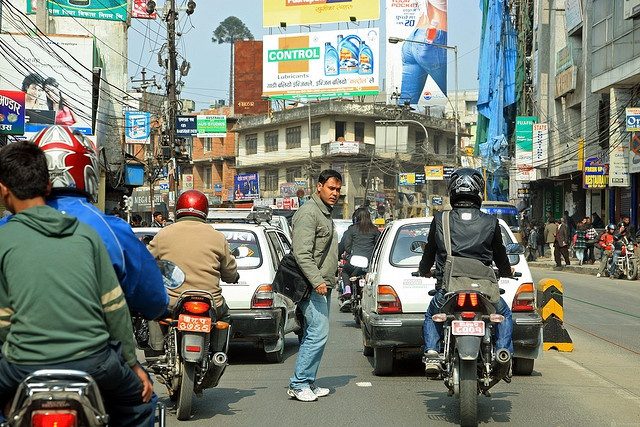non-vehicle: (0, 257, 186, 426), (409, 239, 521, 426), (131, 245, 248, 419), (335, 253, 366, 327), (602, 234, 637, 279)
